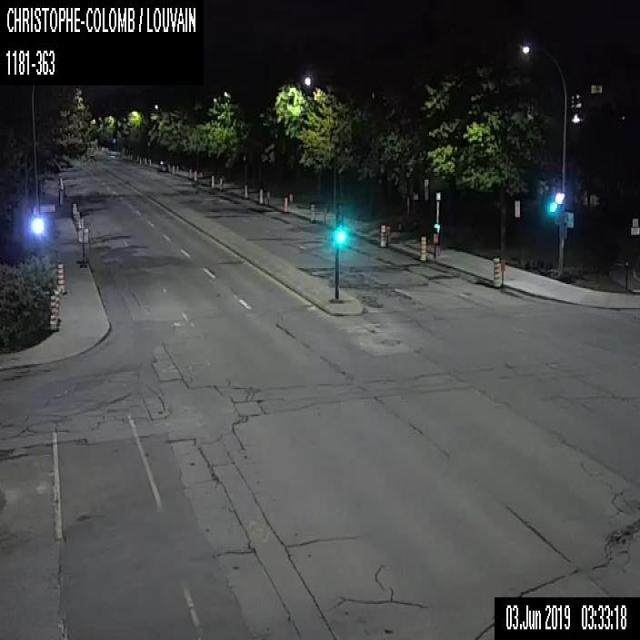construction: (77, 226, 88, 266), (49, 294, 57, 331), (57, 262, 66, 294), (492, 255, 500, 287), (418, 232, 426, 260), (53, 290, 59, 325), (379, 222, 385, 246), (385, 222, 391, 246), (432, 231, 438, 254), (56, 287, 60, 321), (309, 202, 315, 222), (71, 201, 77, 219), (282, 194, 288, 212), (74, 209, 79, 229), (258, 186, 263, 203), (210, 172, 214, 187), (243, 183, 247, 197), (78, 217, 83, 228), (188, 166, 192, 179), (193, 167, 196, 181)
vehicle: (157, 160, 167, 171)
